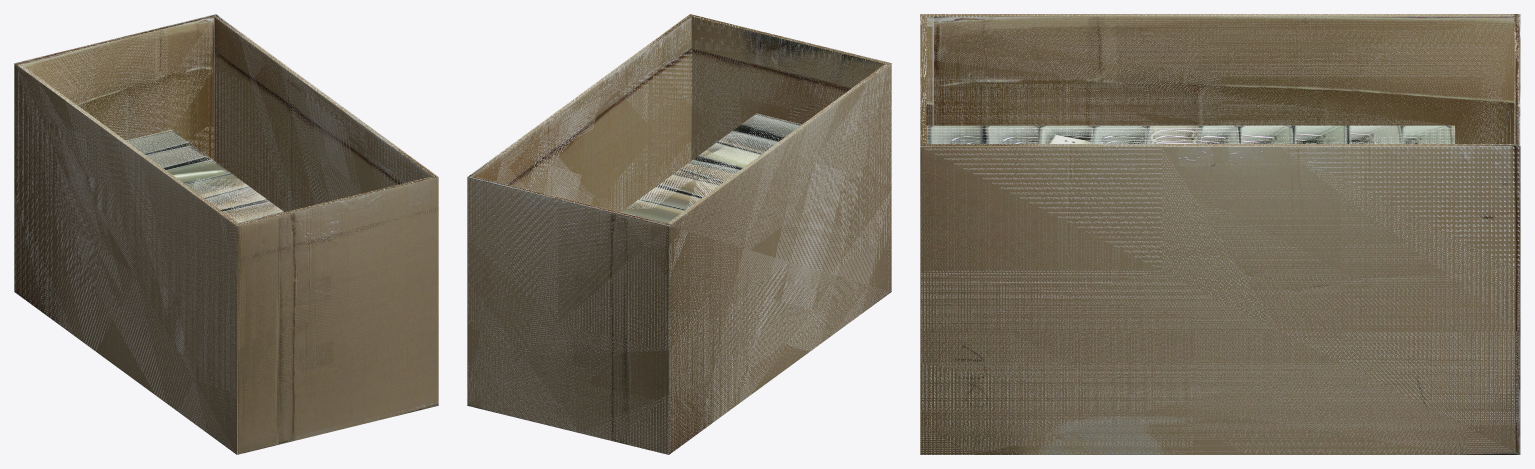
File: large_carton.dae
3 views of the same model, side by side, from view 1: azimuth 30°, elevation 25°; view 2: azimuth 150°, elevation 25°; view 3: azimuth 270°, elevation 25° (orthographic). The views are drawn at different scales.
Visible parts, largest first — view 1: SketchUp (×6); view 2: SketchUp (×6); view 3: SketchUp (×3).
Part boxes in pixels (bbox=[...]): SketchUp (×6): bbox=[14, 14, 438, 454]; SketchUp (×6): bbox=[467, 14, 891, 454]; SketchUp (×3): bbox=[920, 14, 1520, 454].
Bounding box in the file's own units: 0.4703 × 0.8995 × 0.5096.
18 materials, 17 textured.
